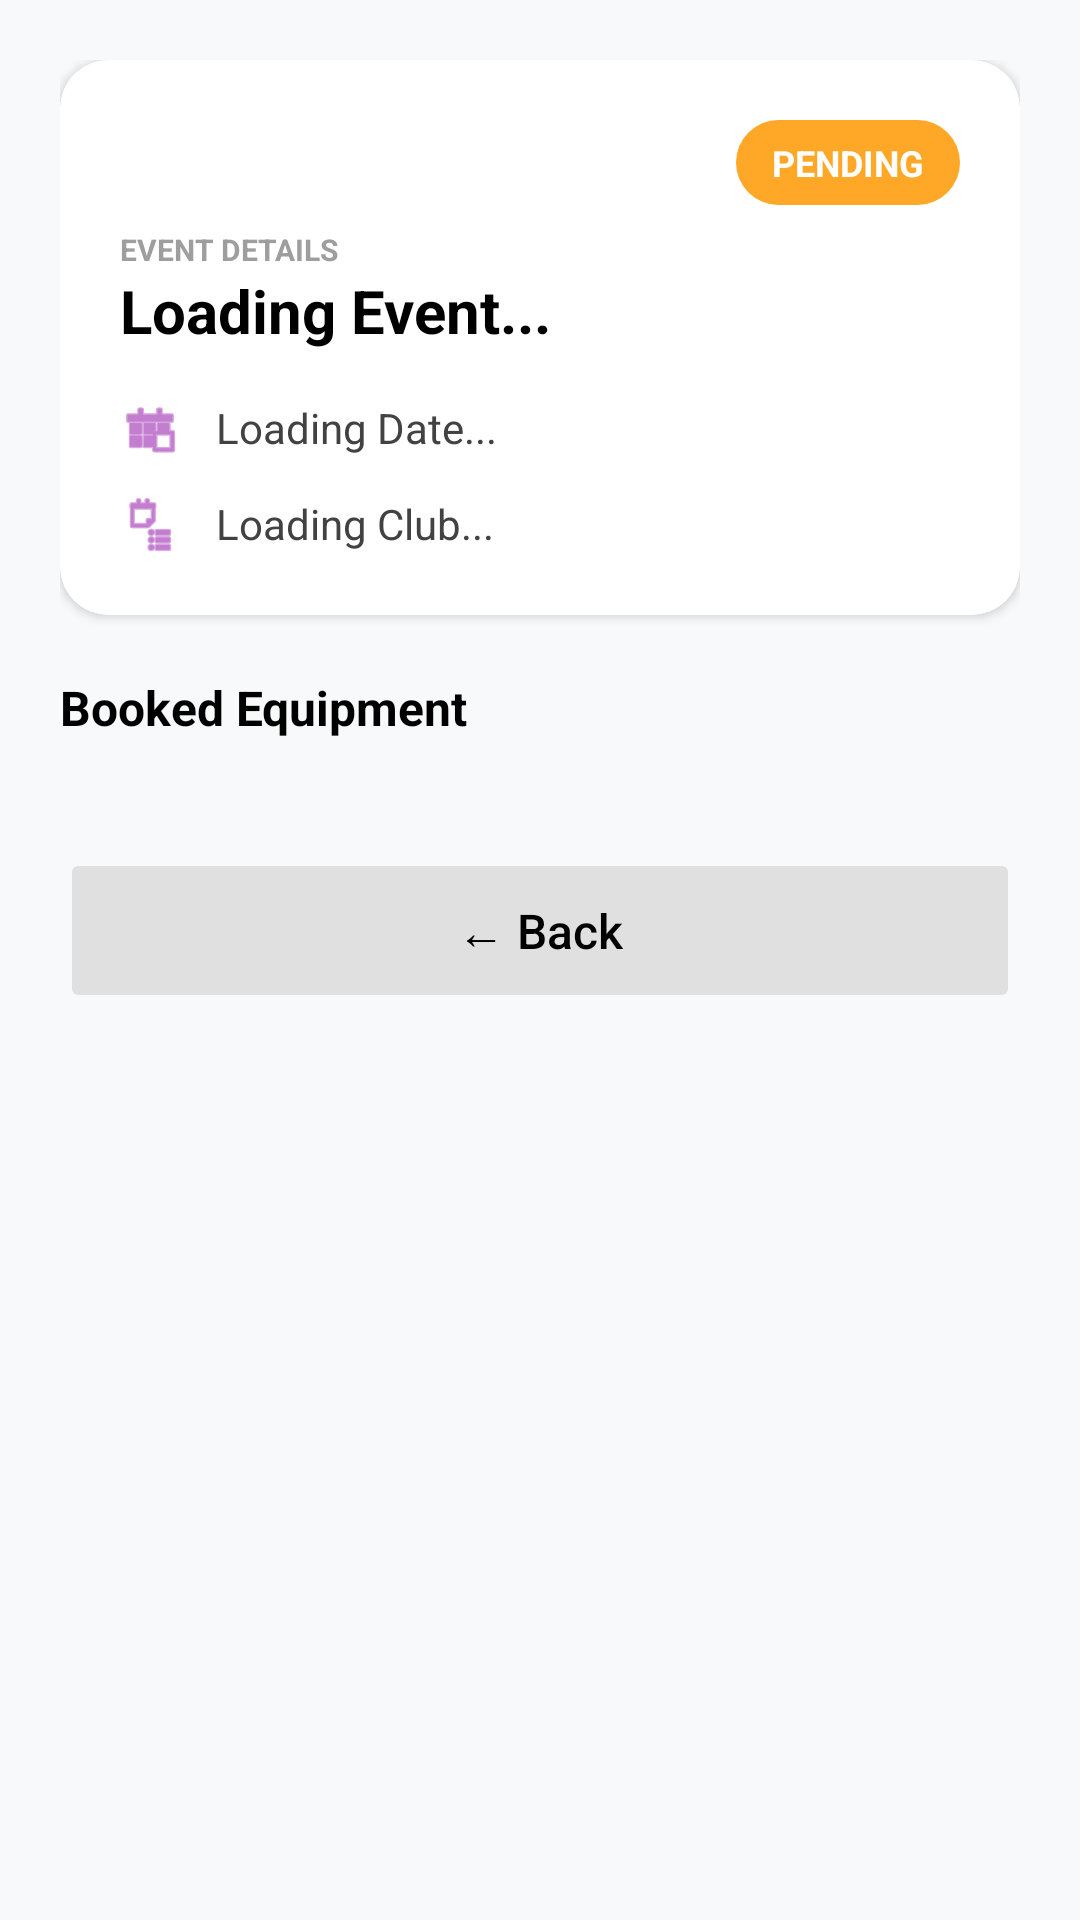

Named icons in this screenshot (1080px×1920px) and their bounding boxes, (x1, y1, x2, y2):
agenda: (129, 498, 171, 551)
today: (126, 407, 175, 453)
